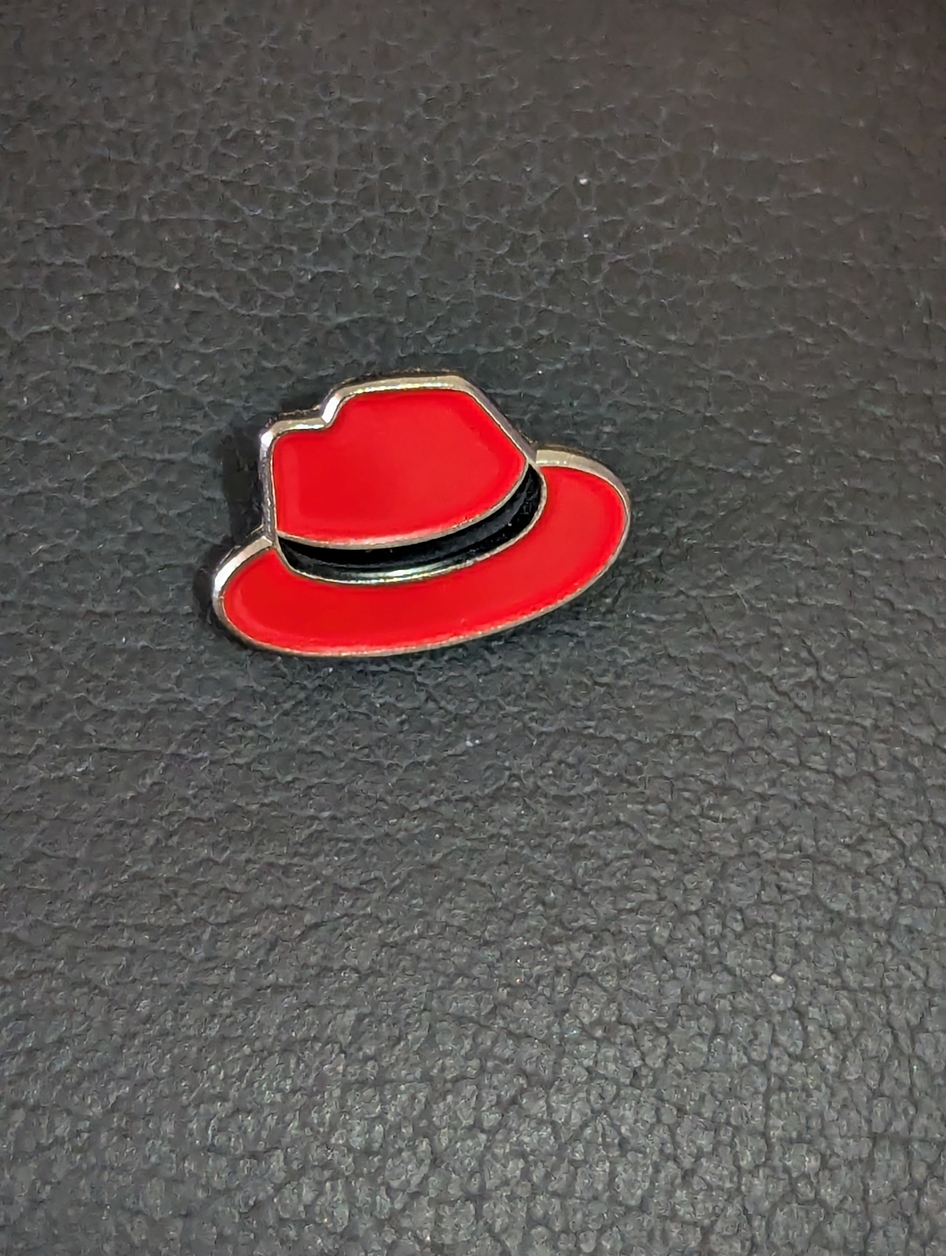Red-Hat: (116, 301, 760, 756)
